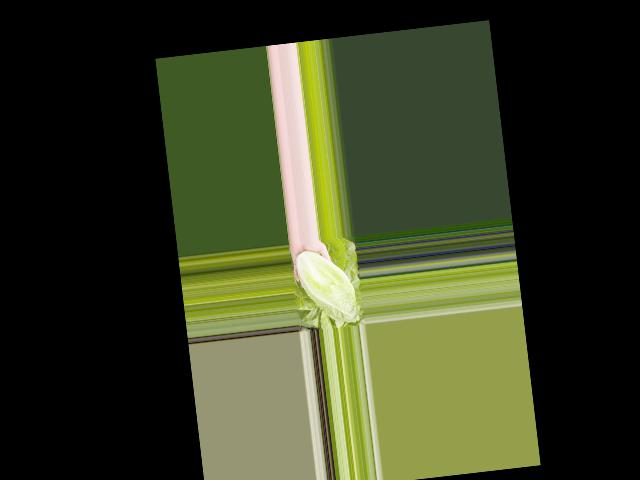lettuce: (292, 244, 360, 328)
